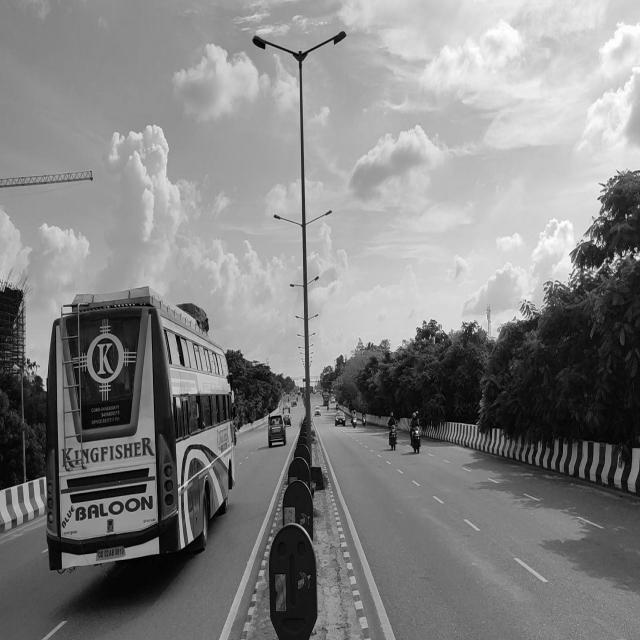bike: (385, 418, 401, 455), (411, 426, 423, 455)
bus: (45, 296, 234, 572)
